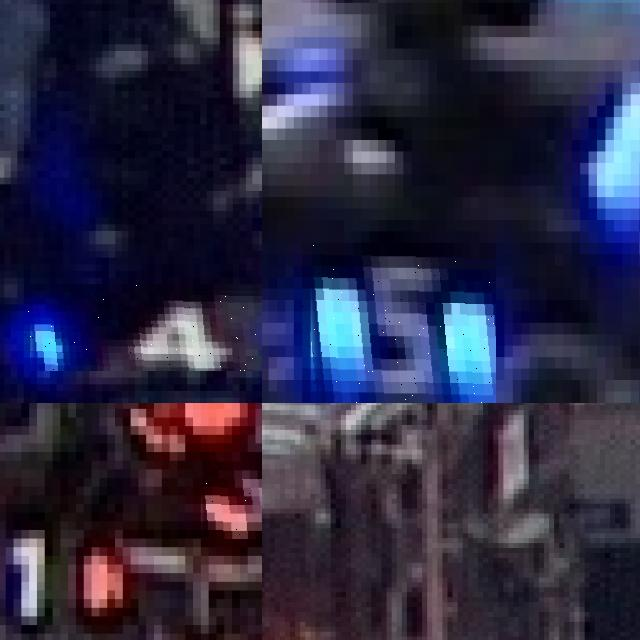B4: (23, 284, 262, 370)
B5: (302, 243, 496, 403)
R1: (0, 521, 122, 625), (193, 452, 262, 538)
